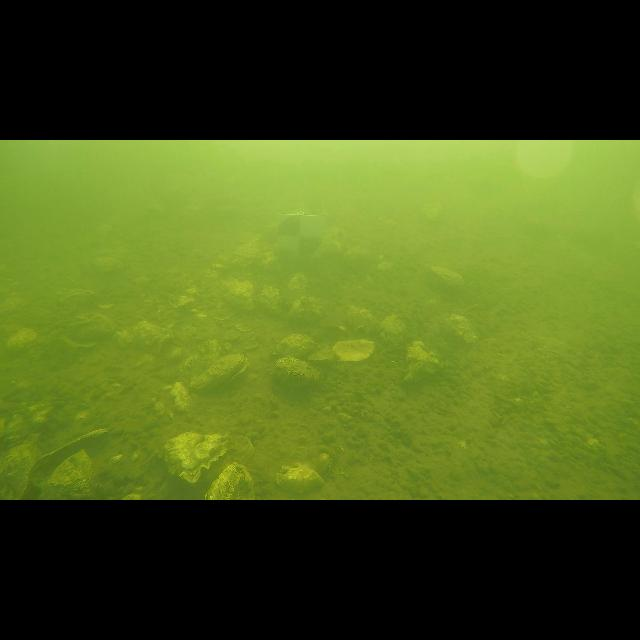Oyster-Closed: (41, 445, 103, 500), (164, 432, 232, 482), (0, 441, 36, 500), (191, 354, 249, 390), (205, 462, 255, 500), (177, 338, 222, 378), (115, 321, 172, 350), (65, 312, 116, 344), (271, 356, 320, 387), (404, 340, 441, 381), (276, 465, 324, 494), (274, 334, 318, 358), (224, 279, 254, 310), (289, 296, 322, 324), (445, 315, 478, 342), (346, 306, 380, 332), (58, 288, 98, 310), (381, 315, 406, 344), (258, 285, 282, 315), (6, 327, 35, 351), (430, 266, 464, 286)
Oyster-Open: (27, 426, 115, 479), (309, 339, 375, 361)
